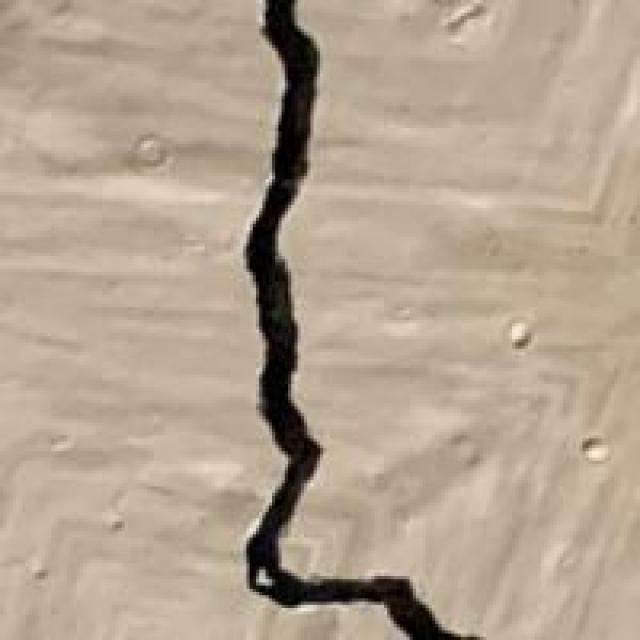crack: (179, 0, 486, 637)
